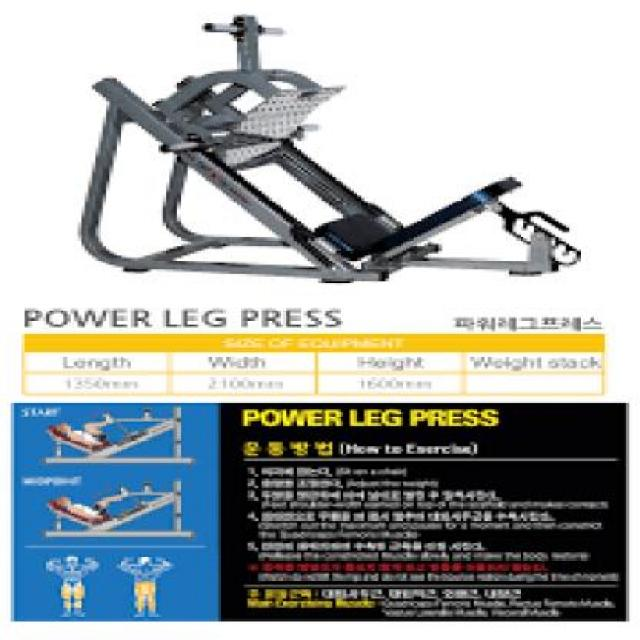leg press: (18, 0, 637, 291)
